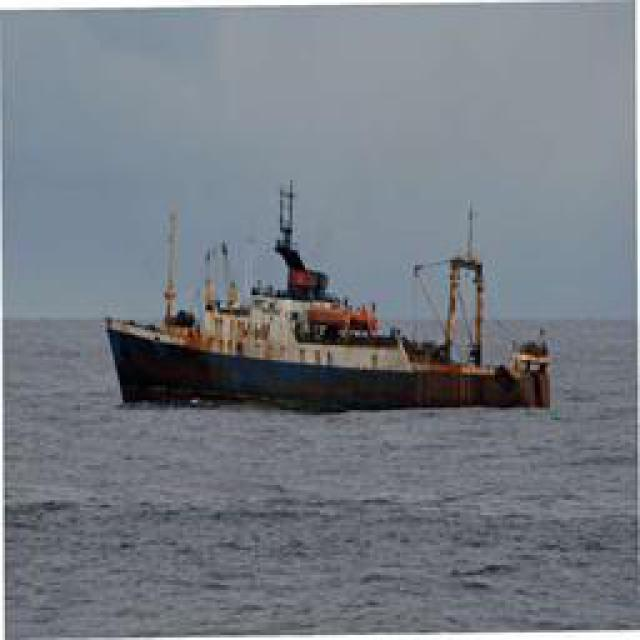Ship: (97, 185, 557, 410)
